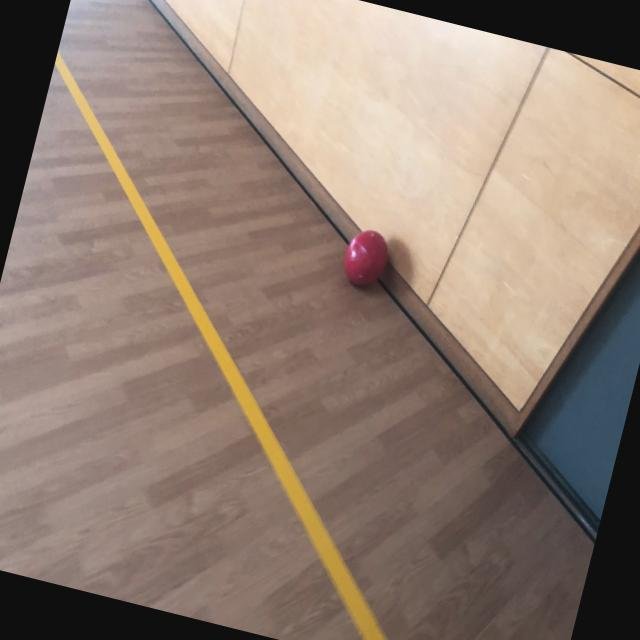red_ball: (338, 224, 392, 294)
